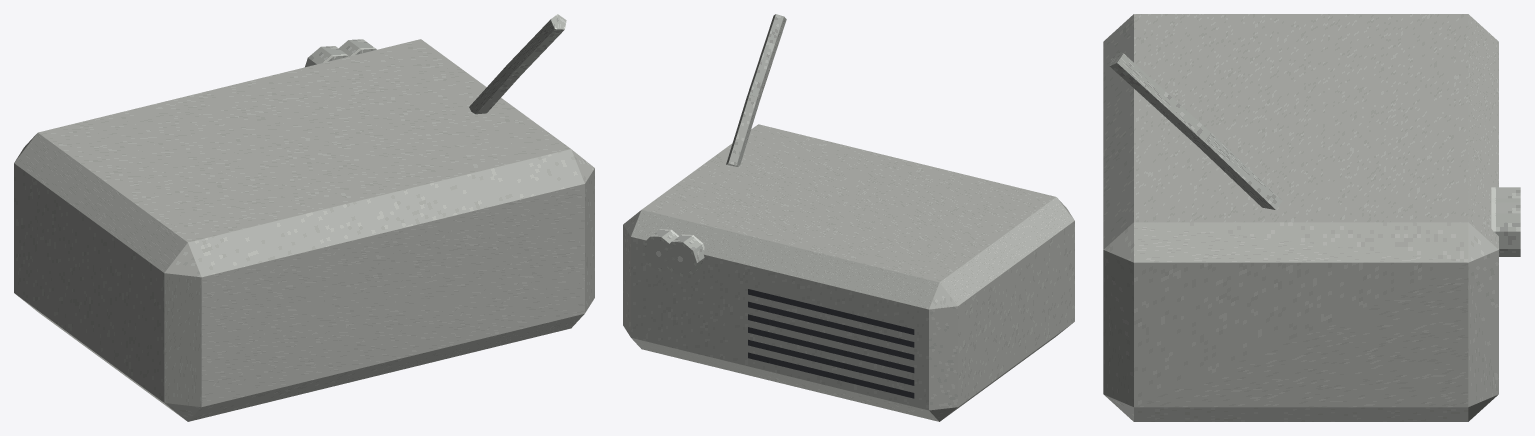
Rendered from radio.glb.
The picture shows the model from 3 angles, left to right: view 1: azimuth 30°, elevation 25°; view 2: azimuth 150°, elevation 25°; view 3: azimuth 270°, elevation 25°; orthographic projection. The views are drawn at different scales.
Parts seen in each view (by area): view 1: block_enclosure, block_radio antenna 1, block_radio antenna 0, block_knob; view 2: block_enclosure, block_speaker slit (×6), block_knob (×2), block_radio antenna 1, block_radio antenna 0; view 3: block_enclosure, block_radio antenna 1, block_knob (×2), block_radio antenna 0.
Boxes of the visible parts, x1,y1,x2,y2 form: block_enclosure: (14, 39, 594, 421); block_radio antenna 1: (506, 14, 566, 75); block_radio antenna 0: (469, 66, 519, 114); block_knob: (305, 46, 348, 67); block_enclosure: (623, 124, 1074, 421); block_speaker slit (×6): (748, 289, 914, 398); block_knob (×2): (642, 229, 704, 276); block_radio antenna 1: (747, 14, 786, 99); block_radio antenna 0: (726, 95, 759, 166); block_enclosure: (1103, 14, 1498, 421); block_radio antenna 1: (1109, 51, 1210, 145); block_knob (×2): (1491, 187, 1520, 256); block_radio antenna 0: (1197, 133, 1282, 209).
Bounding box in the file's own units: 0.188 × 0.1344 × 0.1417.
1 material, 1 textured.
